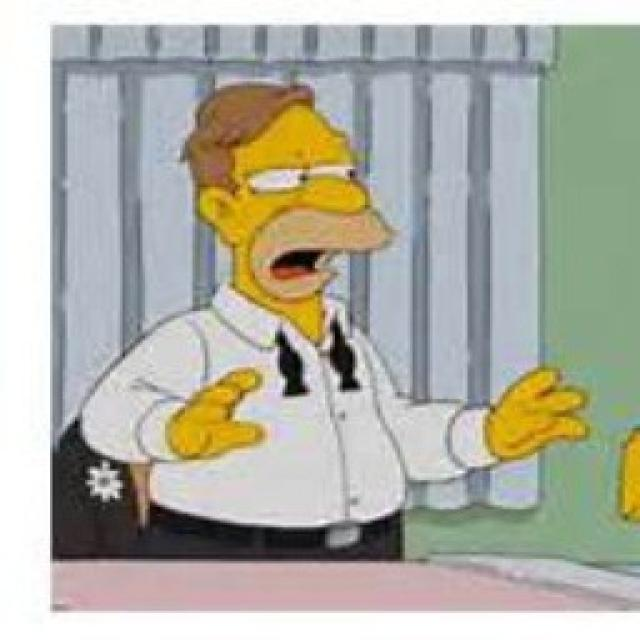Abraham Grampa Simpson: (178, 81, 398, 320)
